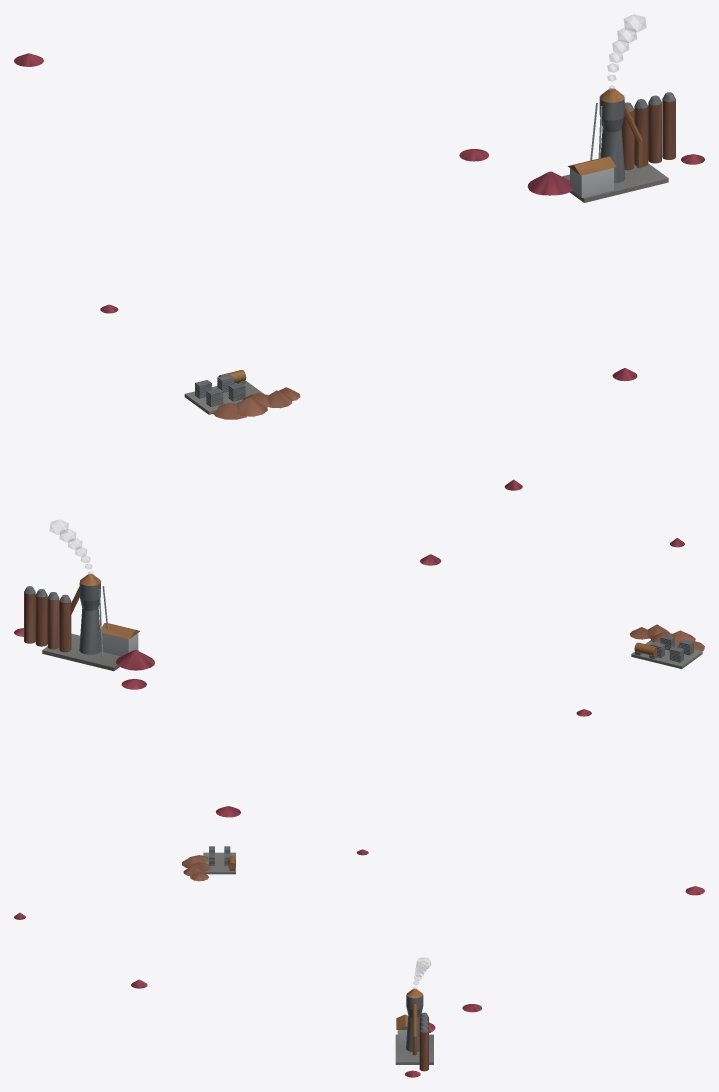
File: Theme_P3.fbx
3 renders of one model, top to bottom at view 1: azimuth 30°, elevation 25°; view 2: azimuth 150°, elevation 25°; view 3: azimuth 270°, elevation 25°, orthographic. The views are drawn at different scales.
Parts seen in each view (by area): view 1: Theme.BlastFurnace, Theme.IngotYard, Theme.SlagBank, Theme.FurnaceSmoke, Theme.BurdenStock; view 2: Theme.BlastFurnace, Theme.IngotYard, Theme.SlagBank, Theme.FurnaceSmoke, Theme.BurdenStock; view 3: Theme.BlastFurnace, Theme.IngotYard, Theme.SlagBank.
Part boxes in pixels (x1,y1,x2,y2): Theme.BlastFurnace: [562, 88, 675, 202]; Theme.IngotYard: [184, 370, 263, 414]; Theme.SlagBank: [213, 387, 300, 419]; Theme.FurnaceSmoke: [607, 14, 646, 89]; Theme.BurdenStock: [527, 171, 572, 195]; Theme.BlastFurnace: [24, 573, 139, 671]; Theme.IngotYard: [631, 635, 702, 668]; Theme.SlagBank: [630, 624, 704, 651]; Theme.FurnaceSmoke: [49, 520, 92, 574]; Theme.BurdenStock: [116, 650, 154, 670]; Theme.BlastFurnace: [395, 988, 433, 1071]; Theme.IngotYard: [203, 846, 235, 874]; Theme.SlagBank: [182, 855, 210, 881].
Bounding box in the file's own units: 26208 × 5982 × 36113.
